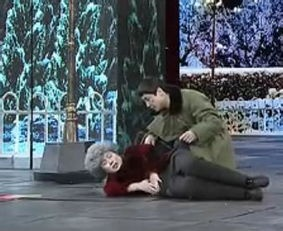falling: (85, 135, 279, 201)
